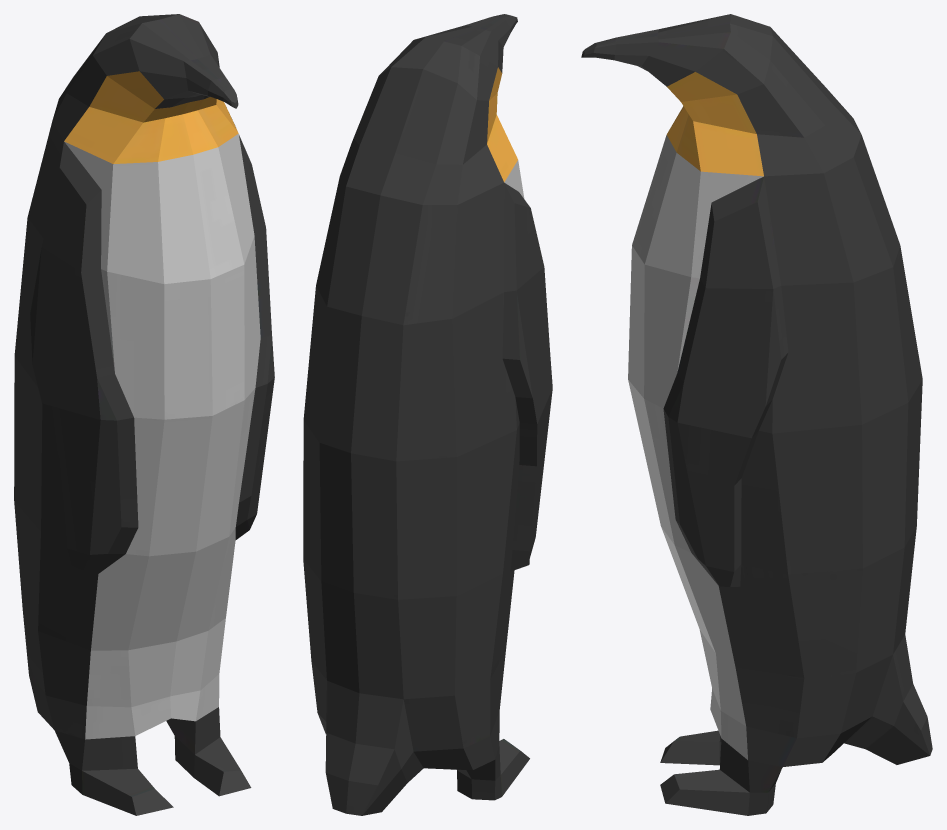
Rendered from penguin.glb.
3 renders of one model, left to right at view 1: azimuth 30°, elevation 25°; view 2: azimuth 150°, elevation 25°; view 3: azimuth 270°, elevation 25°, orthographic. The views are drawn at different scales.
Visible parts, largest first — view 1: 06penguinFinal; view 2: 06penguinFinal; view 3: 06penguinFinal.
Boxes of the visible parts, x1,y1,x2,y2 form: 06penguinFinal: (14,14,274,815); 06penguinFinal: (303,14,552,815); 06penguinFinal: (581,14,932,815).
Size of the model in its own units: 0.4393 by 1.45 by 0.6087.
Materials: 1 (1 with a texture image).
